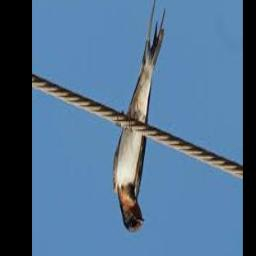Swallow: (113, 0, 165, 233)
